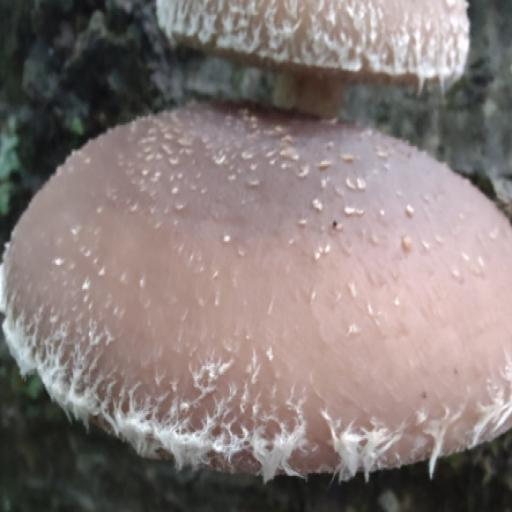Shiitake Mushroom: (1, 1, 512, 448)
